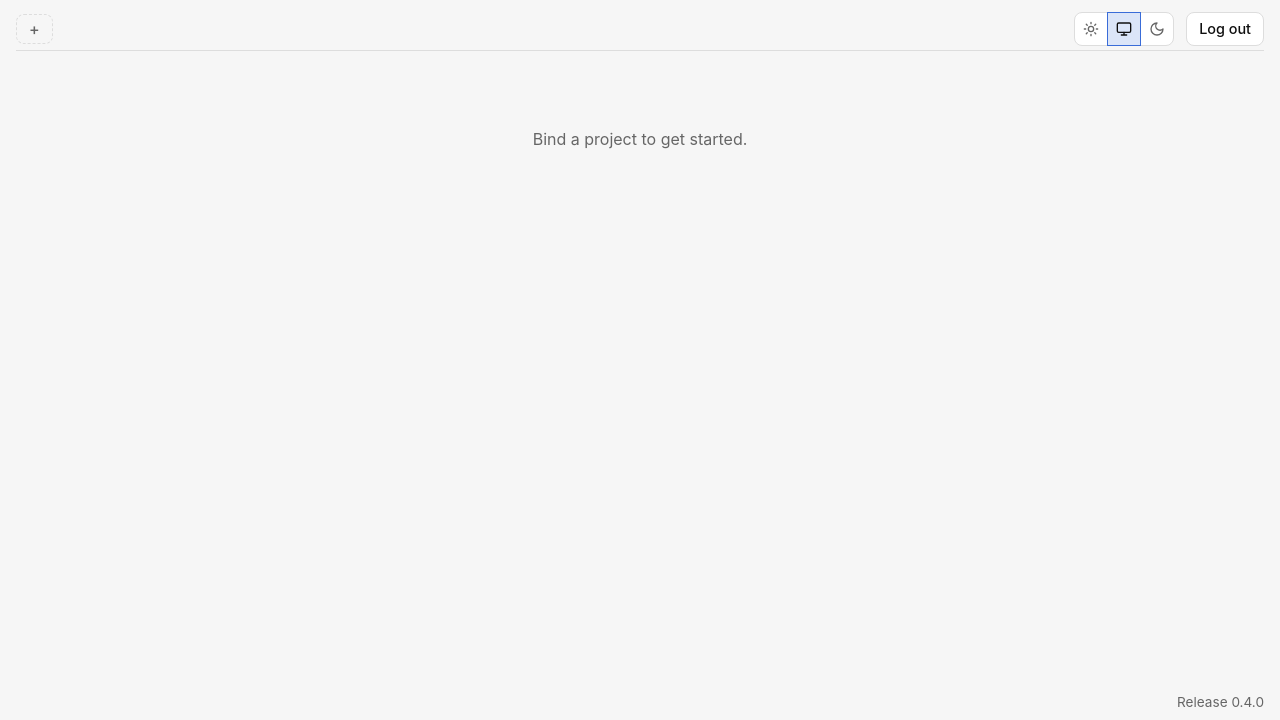
Scenario: App › binding a repo by URL opens a tab named after the repo
Click the button named "Bind a project".
click(34, 29)  # box [16, 14, 53, 44]
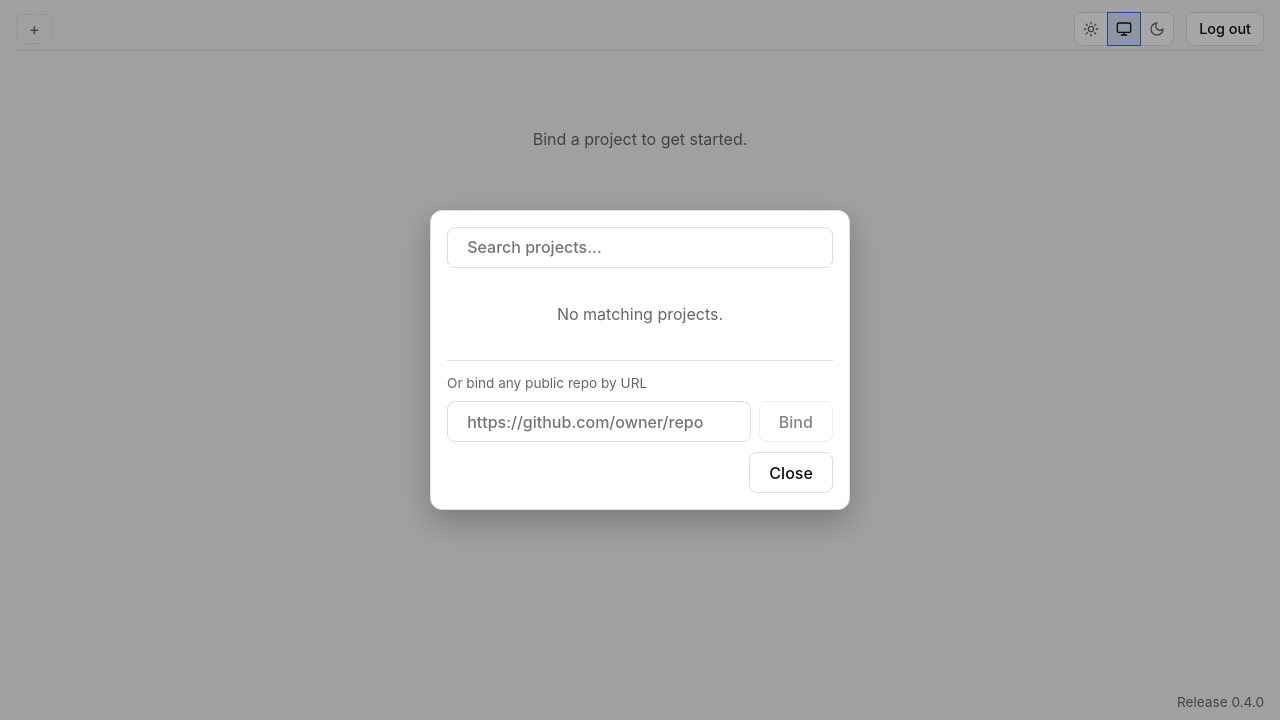
Type "https://github.com/someone/public-game" into the field labelled "Or bind any public repo by URL".
click(599, 422); type("https://github.com/someone/public-game")  # box [447, 401, 751, 442]
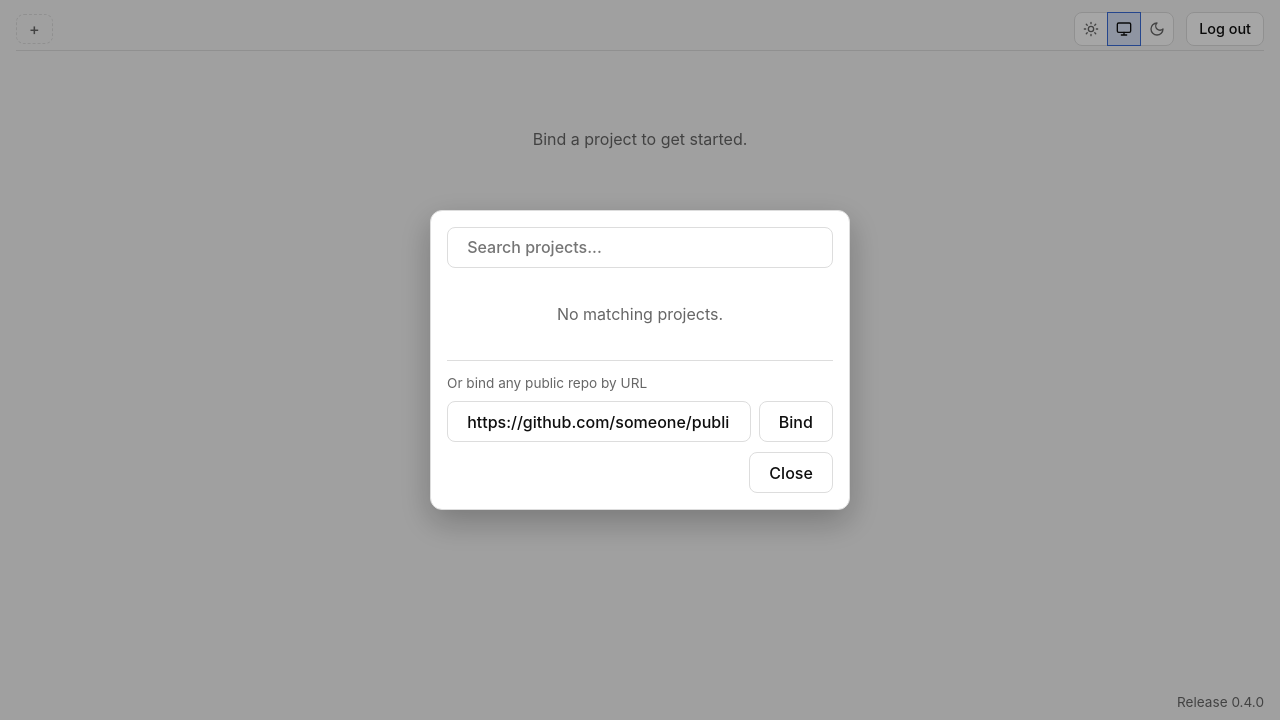
Click the button "Bind".
click(796, 422)  # box [759, 401, 833, 442]
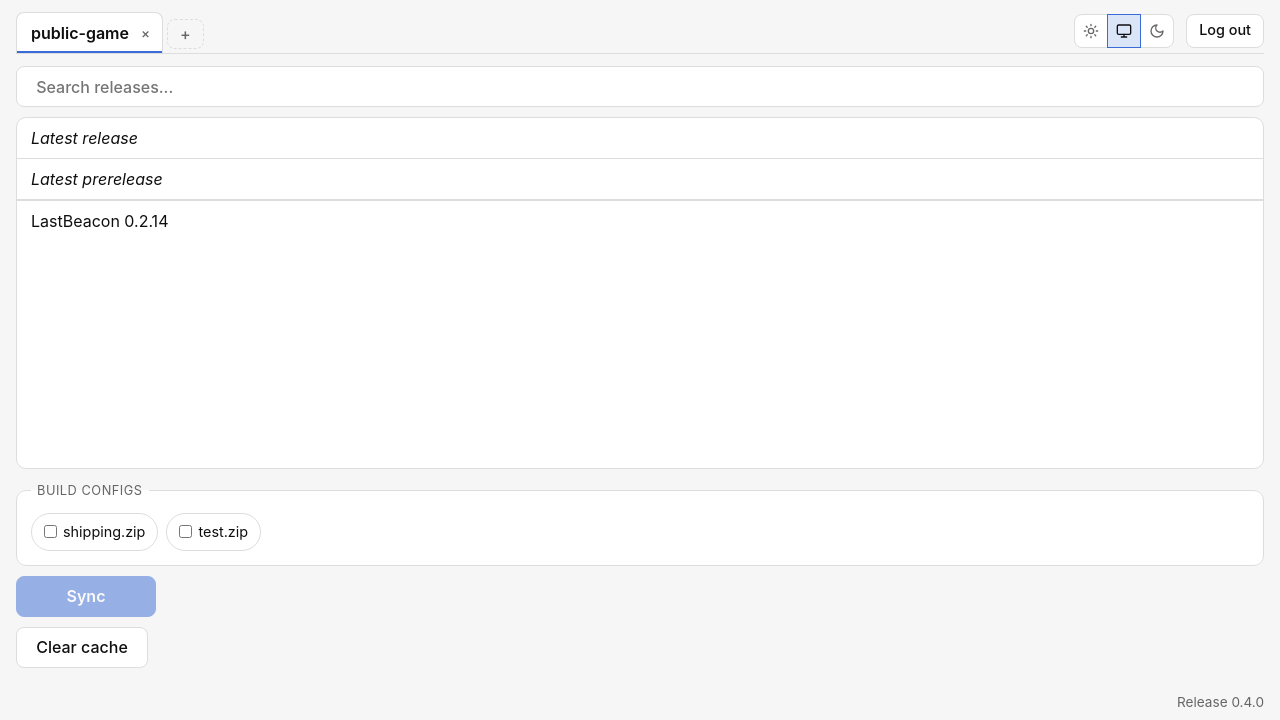
Result: the tab shows "public-game" at [16, 12, 163, 53]
Result: the dialog is gone
